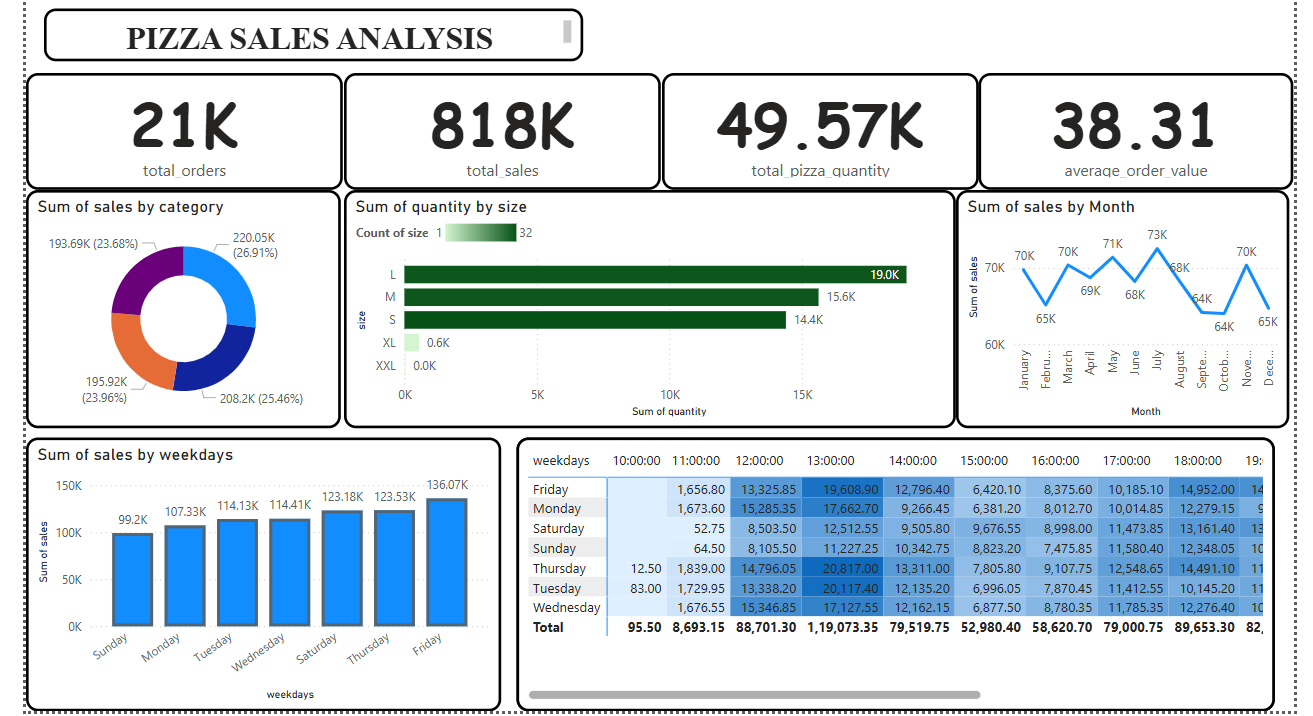

The page's visual inventory and layout, read from the dashboard file:
{"tool":"powerbi","page":{"name":"Page 1","canvas":[1280,720],"ordinal":0},"visuals":[{"type":"card","fields":{"Values":["Table.total_orders"]},"box":[0,75.8,320,117.9],"z":0},{"type":"card","fields":{"Values":["Table.total_sales"]},"box":[321.7,75.8,320,117.9],"z":1000},{"type":"card","fields":{"Values":["Table.total_pizza_quantity"]},"box":[641.7,75.8,320,117.9],"z":2000},{"type":"card","fields":{"Values":["Table.average_order_value"]},"box":[961.7,75.8,318.3,117.9],"z":3000},{"type":"donutChart","fields":{"Category":["pizza_types.category"],"Y":["Sum(order_details.sales)"]},"box":[0,193.7,318.3,240.8],"z":4000},{"type":"clusteredBarChart","fields":{"Category":["pizzas.size"],"Y":["Sum(order_details.quantity)"]},"box":[321.7,193.7,618.1,240.8],"z":5000},{"type":"lineChart","fields":{"Category":["orders.date.Variation.Date Hierarchy.Month"],"Y":["Sum(order_details.sales)"]},"box":[939.8,193.7,336.8,240.8],"z":6000},{"type":"columnChart","fields":{"Y":["Sum(order_details.sales)"],"Category":["orders.weekdays"]},"box":[0,444.2,480,276.7],"z":7000},{"type":"pivotTable","fields":{"Rows":["orders.weekdays"],"Columns":["orders.Customtime"],"Values":["Sum(order_details.sales)"]},"box":[495.1,444.2,766.1,276.7],"z":8000},{"type":"pivotTable","fields":{"Rows":["orders.weekdays"],"Columns":["orders.Customtime"],"Values":["Sum(order_details.sales)"]},"box":[495.1,443.3,766.1,276.7],"z":9000},{"type":"textbox","box":[17.7,10.3,545,53.2],"z":10000}]}

Visuals, with their boxes in screenshot pixels (x1, y1, x2, y2):
card - Table.total_orders: select_region(27, 71, 341, 186)
card - Table.total_sales: select_region(342, 71, 655, 186)
card - Table.total_pizza_quantity: select_region(655, 71, 969, 186)
card - Table.average_order_value: select_region(969, 71, 1280, 186)
donutChart - pizza_types.category x Sum(order_details.sales): select_region(27, 186, 339, 422)
clusteredBarChart - pizzas.size x Sum(order_details.quantity): select_region(342, 186, 947, 422)
lineChart - orders.date.Variation.Date Hierarchy.Month x Sum(order_details.sales): select_region(947, 186, 1277, 422)
columnChart - Sum(order_details.sales) x orders.weekdays: select_region(27, 431, 497, 702)
pivotTable - orders.weekdays x orders.Customtime: select_region(512, 431, 1262, 702)
pivotTable - orders.weekdays x orders.Customtime: select_region(512, 430, 1262, 701)
textbox: select_region(45, 7, 578, 59)
